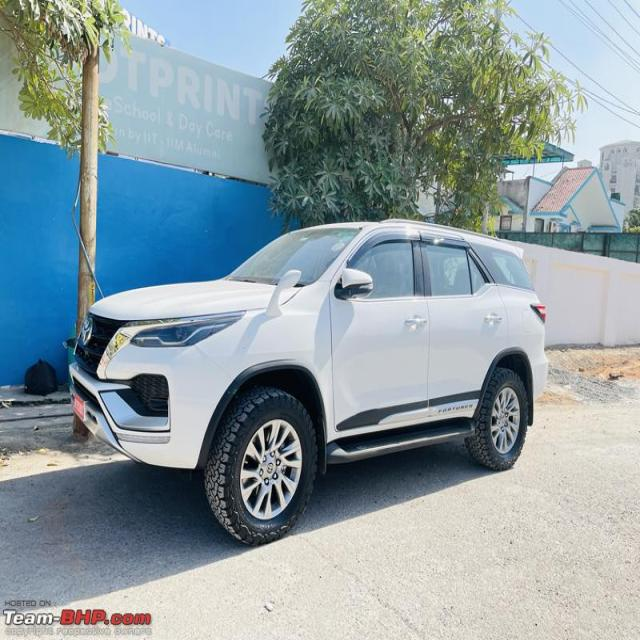light_vehicle: (67, 218, 549, 546)
